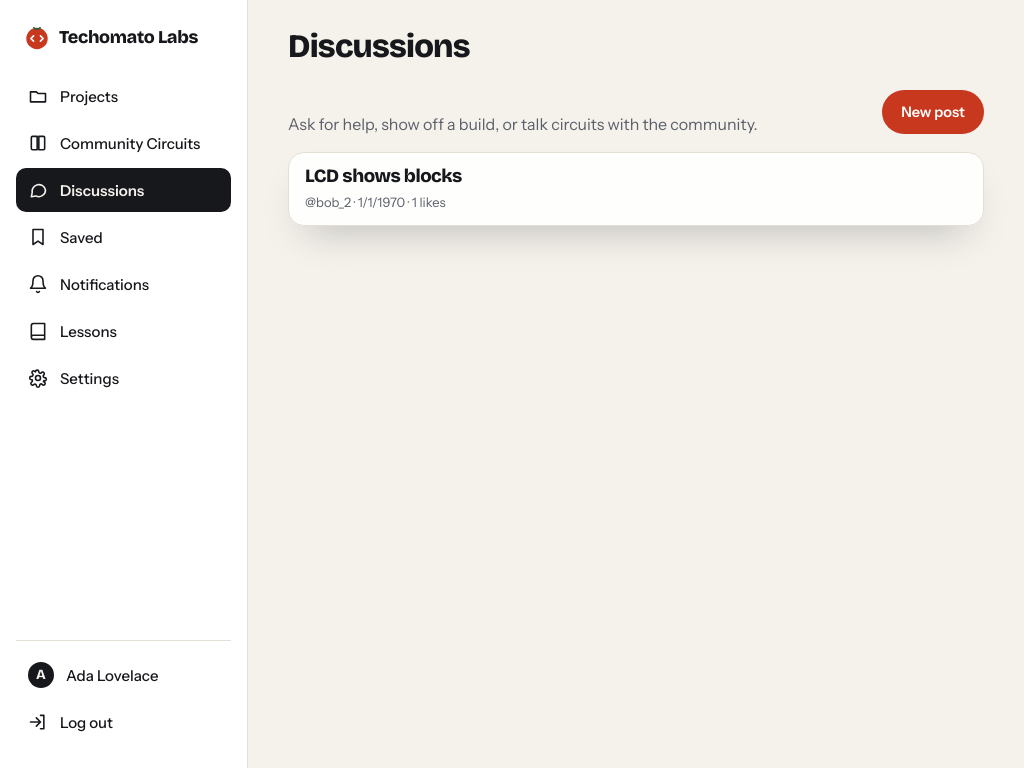
Test case: DiscussionsPage › lists threads and starts a new one
Check: the heading "LCD shows blocks" is shown, box [305,165,462,187]
Check: the text "@bob_2 · 1/1/1970 · 1 likes" is shown, box [305,194,446,210]
Click the button "New post" at (933, 112), box [882,90,984,134]
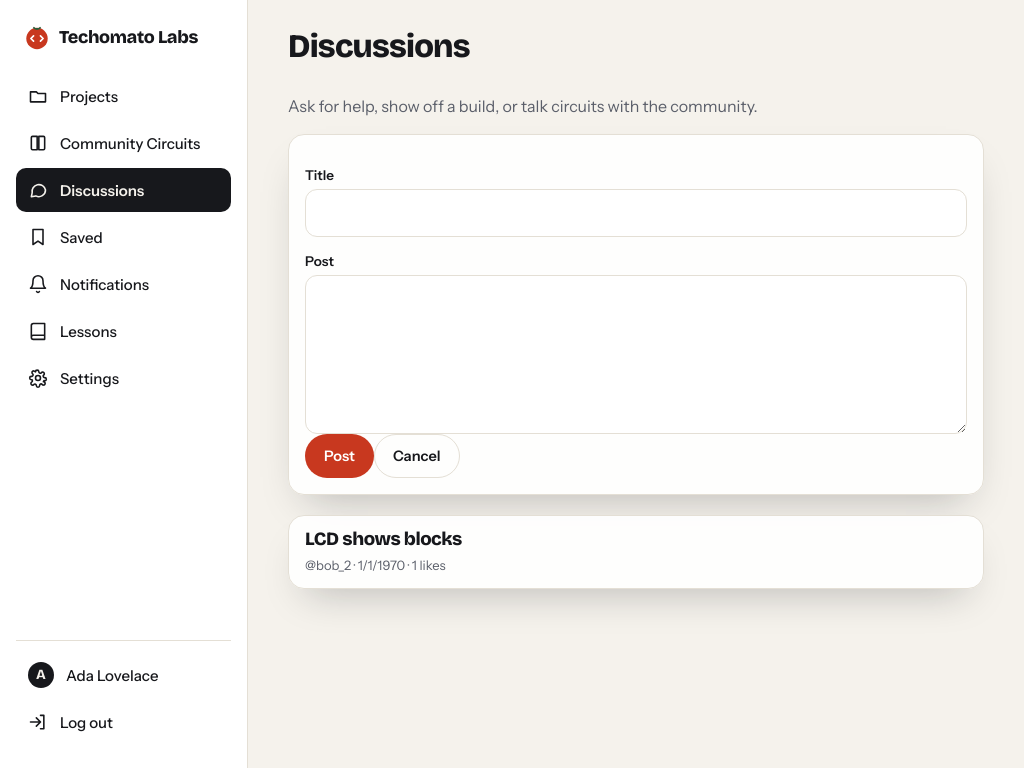
Type "New one" into the field labelled "Title" at (636, 213), box [305,189,967,237]
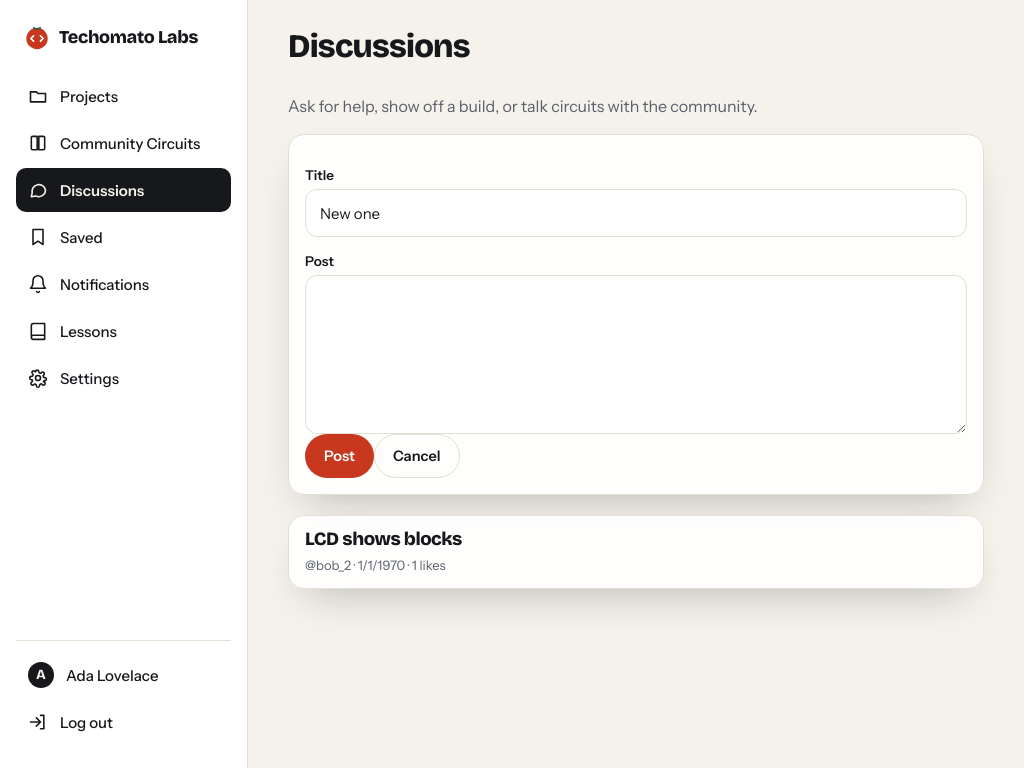
Type "Hello" into the text box labelled "Post" at (636, 355), box [305,275,967,434]
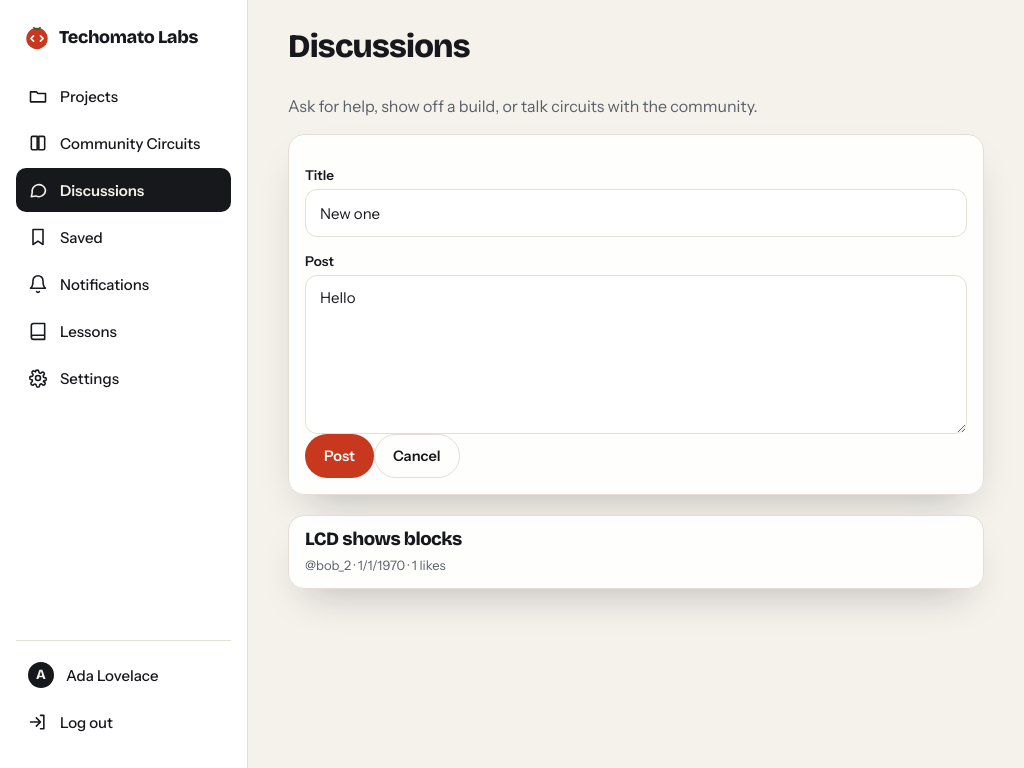
Click the button "Post" at (340, 456), box [305,434,374,478]
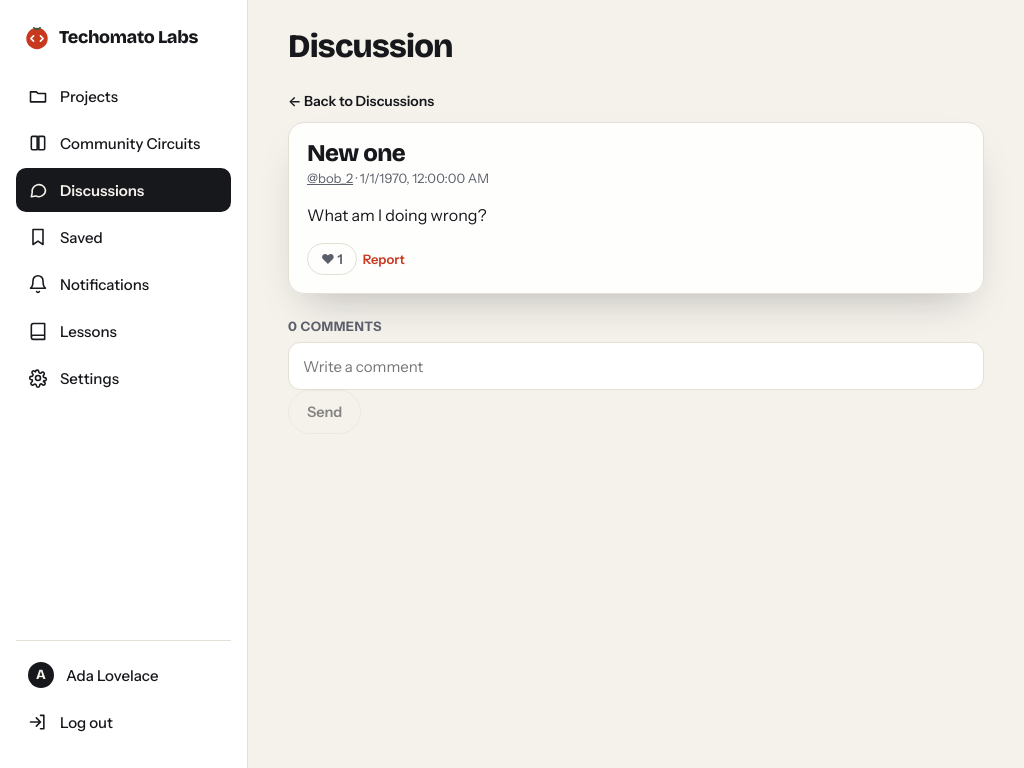
Check: the heading "New one" is shown, box [307,139,405,167]
